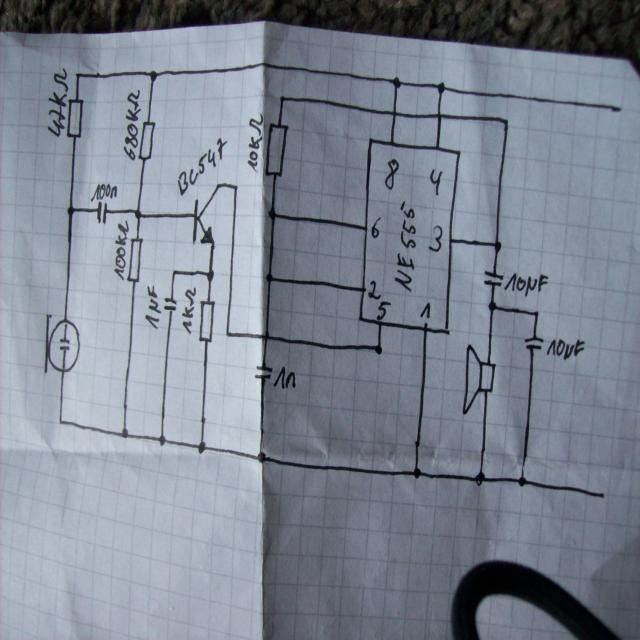capacitor: (523, 334, 544, 352), (483, 269, 503, 287), (95, 200, 108, 225), (254, 364, 274, 380), (163, 296, 177, 312)
crossover: (262, 331, 272, 343), (390, 107, 399, 119), (435, 109, 444, 120)
junction: (255, 450, 268, 465), (474, 470, 486, 486), (517, 474, 529, 489), (156, 432, 168, 447), (196, 440, 207, 454), (119, 426, 130, 440), (132, 207, 143, 221), (391, 75, 402, 89), (267, 205, 277, 220), (436, 80, 446, 95), (412, 466, 422, 480), (148, 68, 158, 82), (486, 299, 496, 313), (500, 115, 510, 128), (493, 238, 501, 254), (206, 268, 214, 283), (264, 271, 273, 283), (66, 204, 75, 216), (373, 342, 382, 354), (57, 416, 65, 428), (278, 92, 286, 104), (170, 267, 178, 278), (73, 69, 81, 80), (224, 328, 231, 339), (533, 308, 540, 318), (232, 182, 239, 191)
resistor: (264, 121, 288, 177), (125, 235, 144, 282), (137, 119, 156, 162), (66, 96, 84, 140), (198, 298, 215, 344)
terminal: (611, 100, 626, 118), (596, 488, 608, 502)
text: (176, 136, 228, 196), (393, 198, 417, 292), (46, 66, 68, 137), (121, 88, 141, 162), (503, 271, 550, 297), (113, 219, 129, 281), (247, 111, 263, 173), (546, 336, 586, 360), (144, 284, 162, 330), (181, 286, 196, 334), (272, 365, 296, 390), (90, 182, 118, 202), (383, 158, 399, 190), (428, 224, 443, 252), (429, 167, 442, 196), (366, 279, 382, 300), (370, 216, 382, 240), (376, 300, 390, 320), (419, 300, 432, 320)
transistor: (191, 182, 221, 246)
